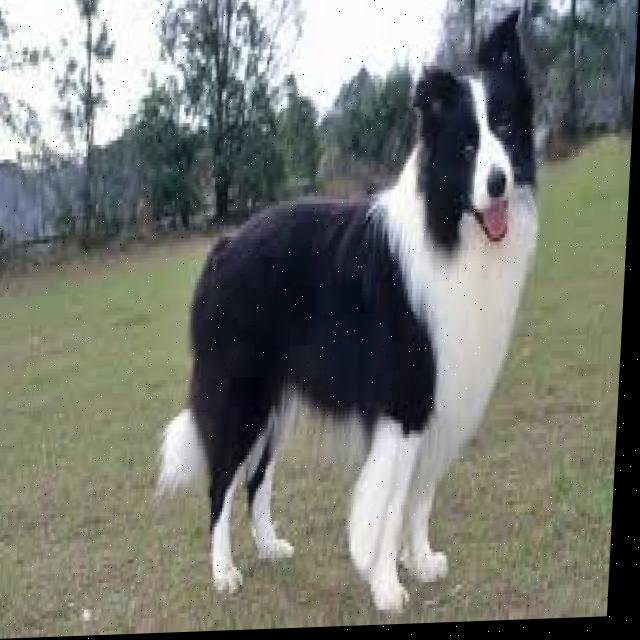BORDER_COLLIE: (141, 7, 573, 627)
